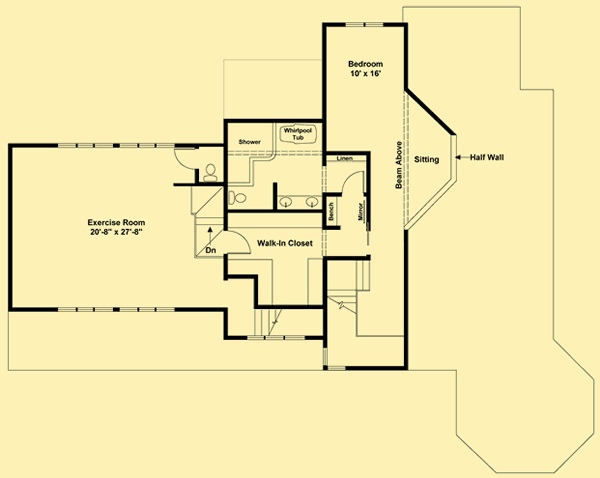door: (224, 227, 251, 256), (171, 147, 198, 171), (340, 171, 365, 195)
large_sink: (200, 161, 220, 181), (225, 187, 246, 206)
small_sink: (274, 195, 324, 209)
stairs: (324, 256, 374, 319), (246, 308, 324, 336)
tub: (275, 124, 318, 147)
window: (52, 303, 176, 315), (55, 140, 177, 150), (342, 19, 385, 31), (322, 363, 347, 371)
